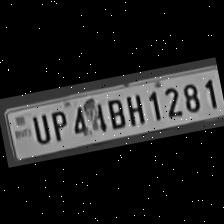1: (198, 74, 222, 110), (140, 86, 162, 122)
2: (158, 82, 183, 120)
4: (65, 100, 91, 139)
8: (176, 78, 202, 114)
B: (101, 93, 127, 130)
H: (122, 89, 148, 126)
P: (44, 106, 70, 142)
U: (28, 109, 52, 145)
